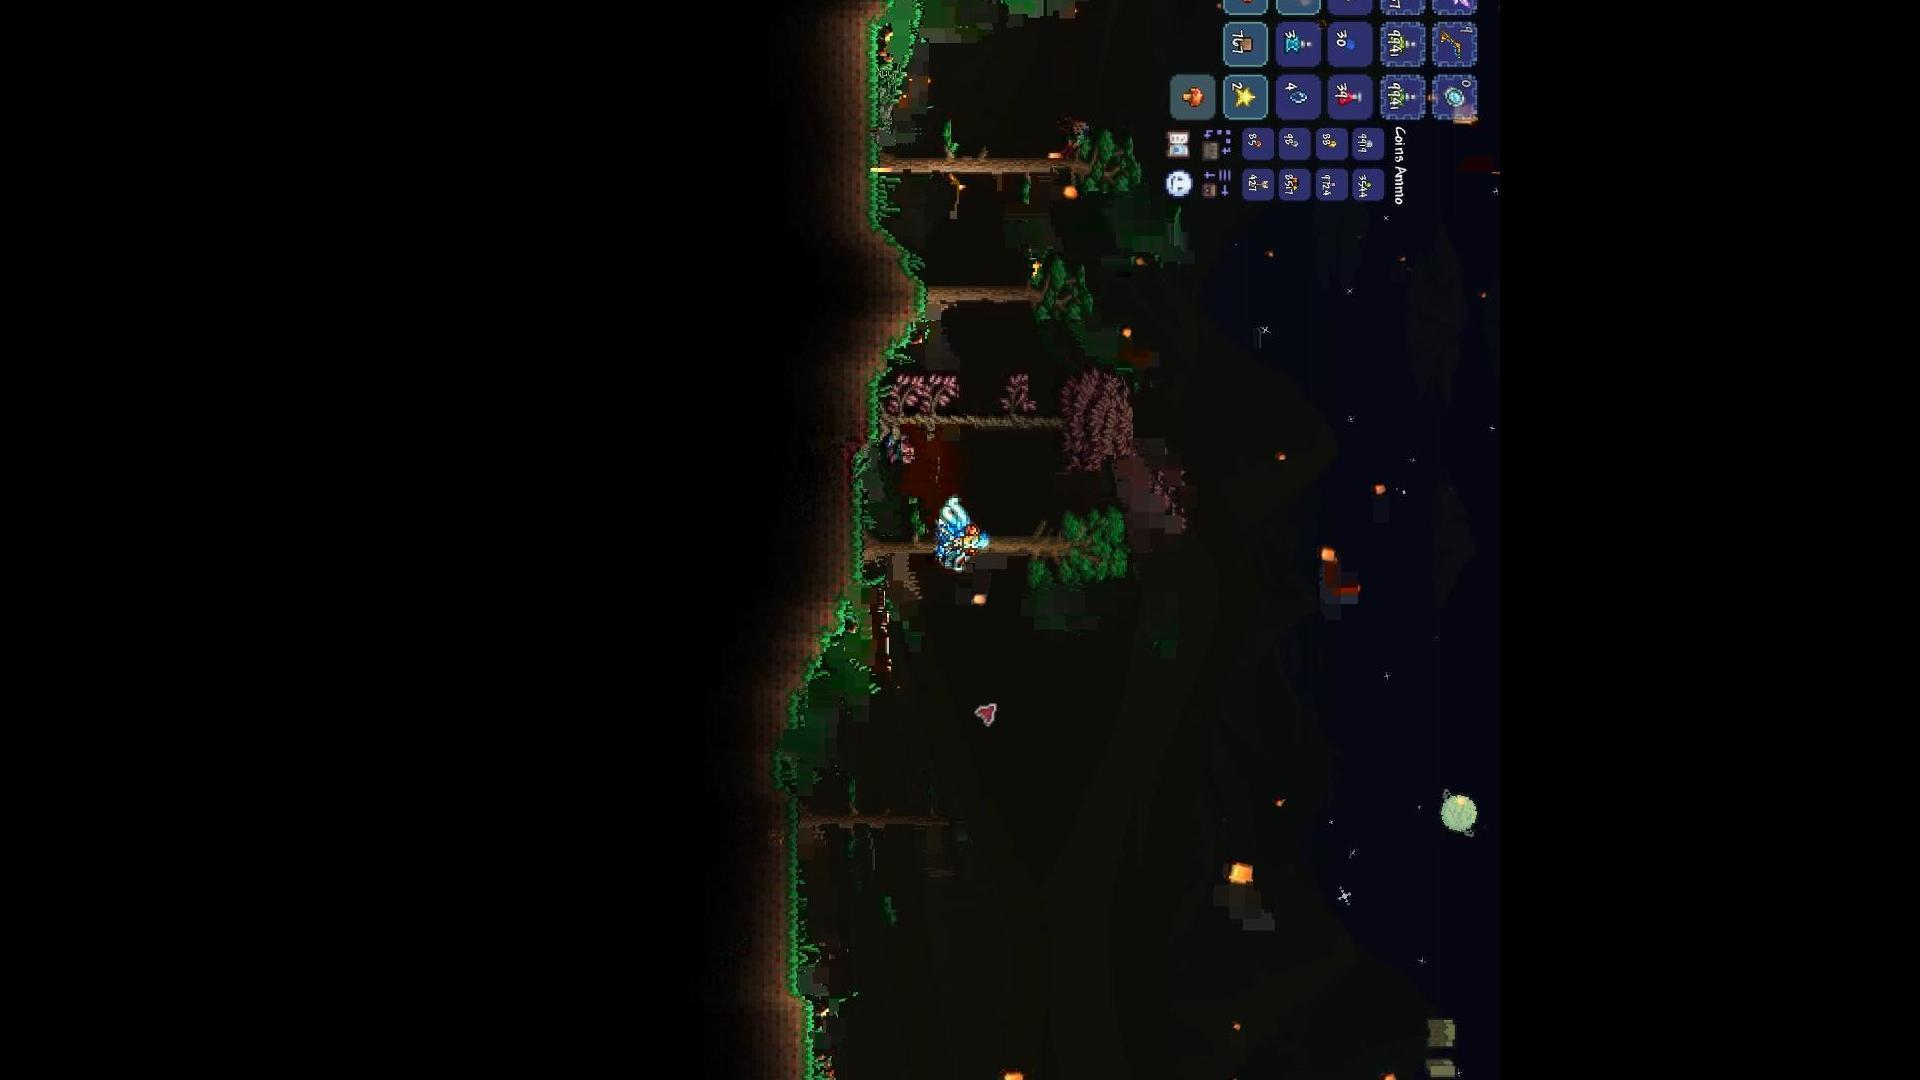mirror: (1439, 83, 1466, 109)
star: (1233, 83, 1257, 108)
